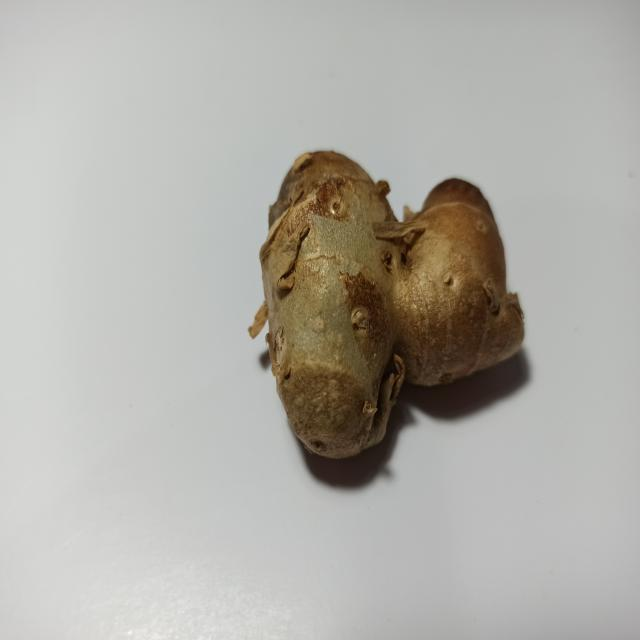ginger: (265, 151, 520, 440)
